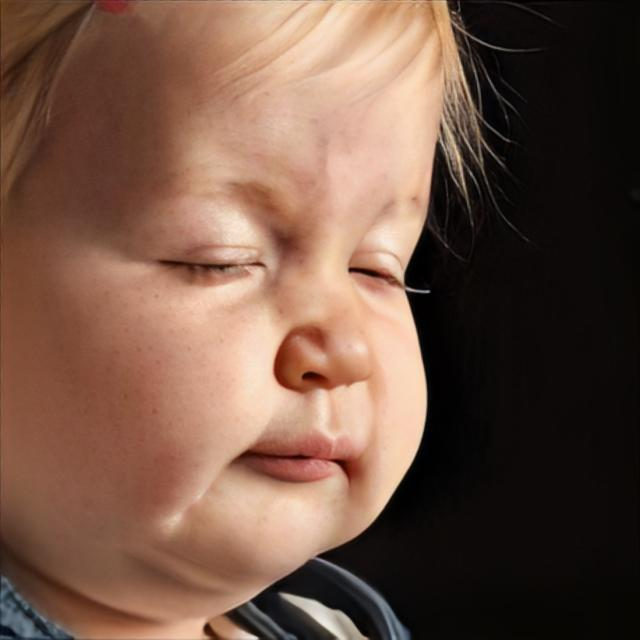sad: (0, 0, 447, 621)
